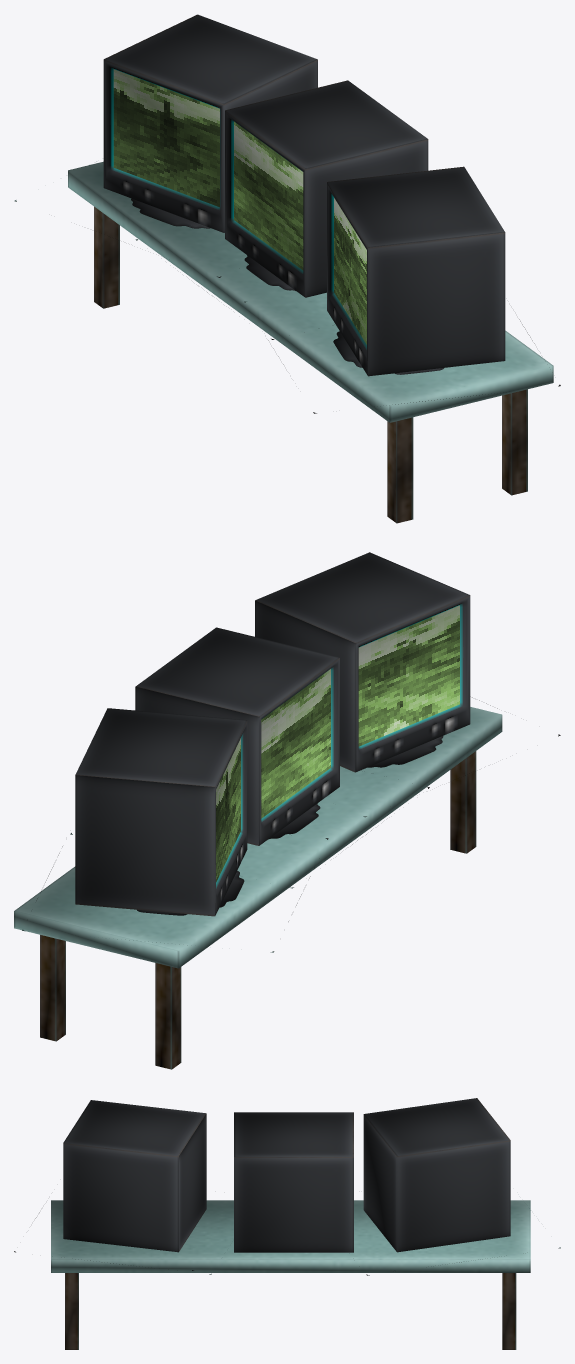
Rendered from kurite.obj.
The picture shows the model from 3 angles, top to bottom: view 1: azimuth 30°, elevation 25°; view 2: azimuth 150°, elevation 25°; view 3: azimuth 270°, elevation 25°; orthographic projection. The views are drawn at different scales.
Parts seen in each view (by area): view 1: monitor.003, Cube; view 2: monitor.003, Cube; view 3: monitor.003, Cube.
Part boxes in pixels (bbox=[...]): monitor.003: bbox=[14, 14, 560, 413]; Cube: bbox=[68, 161, 553, 523]; monitor.003: bbox=[22, 552, 560, 952]; Cube: bbox=[14, 707, 502, 1069]; monitor.003: bbox=[14, 1098, 560, 1275]; Cube: bbox=[51, 1200, 530, 1349].
Bounding box in the file's own units: 69.61 × 62 × 155.
